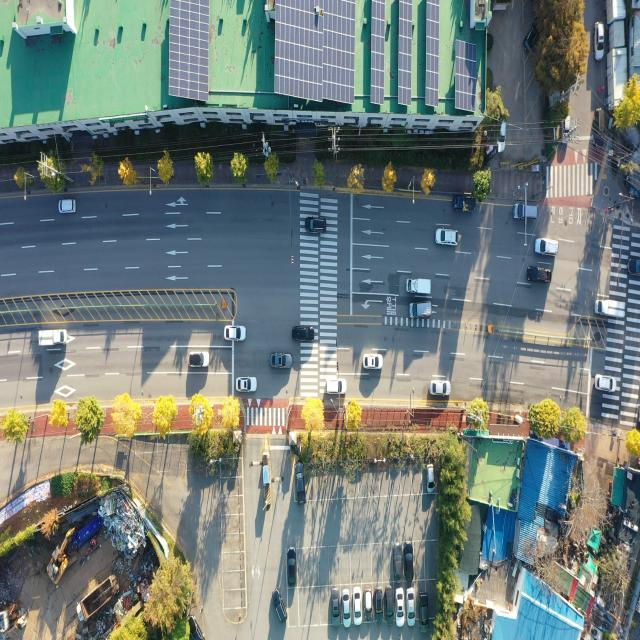car: (534, 238, 558, 257), (594, 109, 606, 147), (527, 22, 542, 52), (273, 590, 287, 622), (418, 591, 428, 634), (513, 204, 538, 221), (292, 324, 315, 342), (410, 302, 435, 318), (294, 464, 304, 504), (438, 230, 460, 248), (270, 353, 292, 370), (527, 268, 551, 283), (330, 589, 340, 625), (188, 351, 209, 368), (304, 218, 326, 234), (395, 588, 404, 625), (393, 546, 402, 582), (406, 546, 415, 582), (385, 587, 394, 623), (596, 376, 616, 392), (497, 121, 507, 153), (288, 548, 296, 587), (594, 21, 602, 59), (226, 325, 246, 340), (430, 381, 450, 396), (627, 255, 640, 278), (407, 589, 415, 625), (362, 354, 381, 369), (328, 380, 347, 395), (343, 589, 351, 624), (376, 588, 384, 622), (364, 588, 372, 622), (237, 378, 256, 392), (60, 200, 77, 215), (354, 588, 361, 624), (562, 117, 570, 144), (427, 464, 434, 492)
medium_truck: (76, 577, 121, 624)
small_truck: (596, 300, 626, 320), (40, 330, 70, 349), (408, 278, 433, 296), (453, 197, 476, 215)
